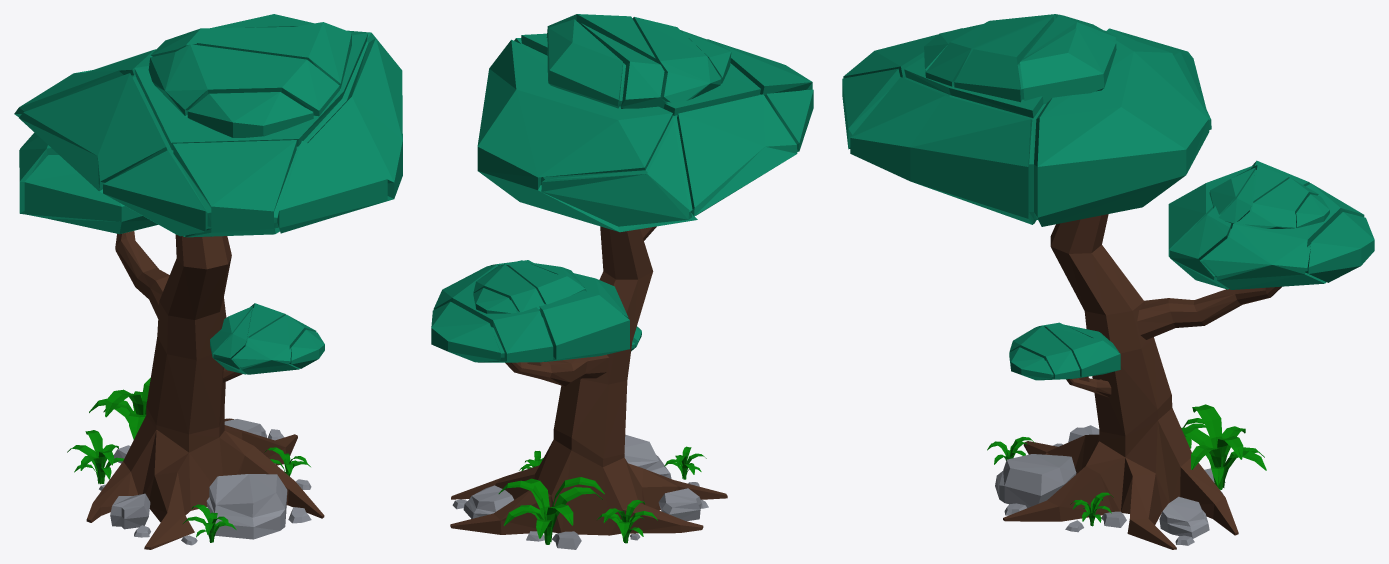
The model's file is SM_Large_Tree_With_Rocks.fbx.
3 renders of one model, left to right at view 1: azimuth 30°, elevation 25°; view 2: azimuth 150°, elevation 25°; view 3: azimuth 270°, elevation 25°, orthographic. The views are drawn at different scales.
Visible parts, largest first — view 1: SM_Large_Tree_With_Rocks; view 2: SM_Large_Tree_With_Rocks; view 3: SM_Large_Tree_With_Rocks.
Boxes of the visible parts, left/top/right/bottom form: SM_Large_Tree_With_Rocks: left=14, top=14, right=402, bottom=549; SM_Large_Tree_With_Rocks: left=431, top=14, right=813, bottom=549; SM_Large_Tree_With_Rocks: left=842, top=14, right=1374, bottom=549.
Size of the model in its own units: 183 by 267 by 276.
